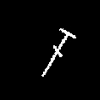double_crochet: (42, 29, 75, 75)
